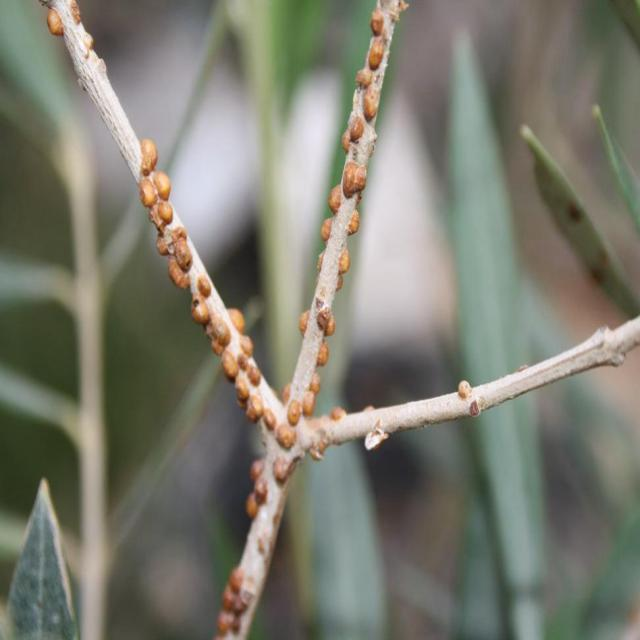Black Scale: (272, 0, 408, 488), (138, 139, 277, 429), (213, 458, 272, 639), (39, 0, 97, 59), (458, 380, 475, 401)
